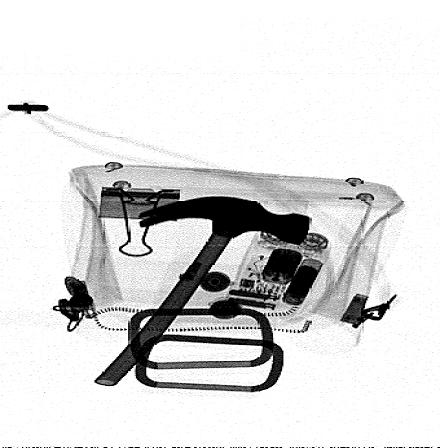Hammer: (94, 196, 312, 387)
